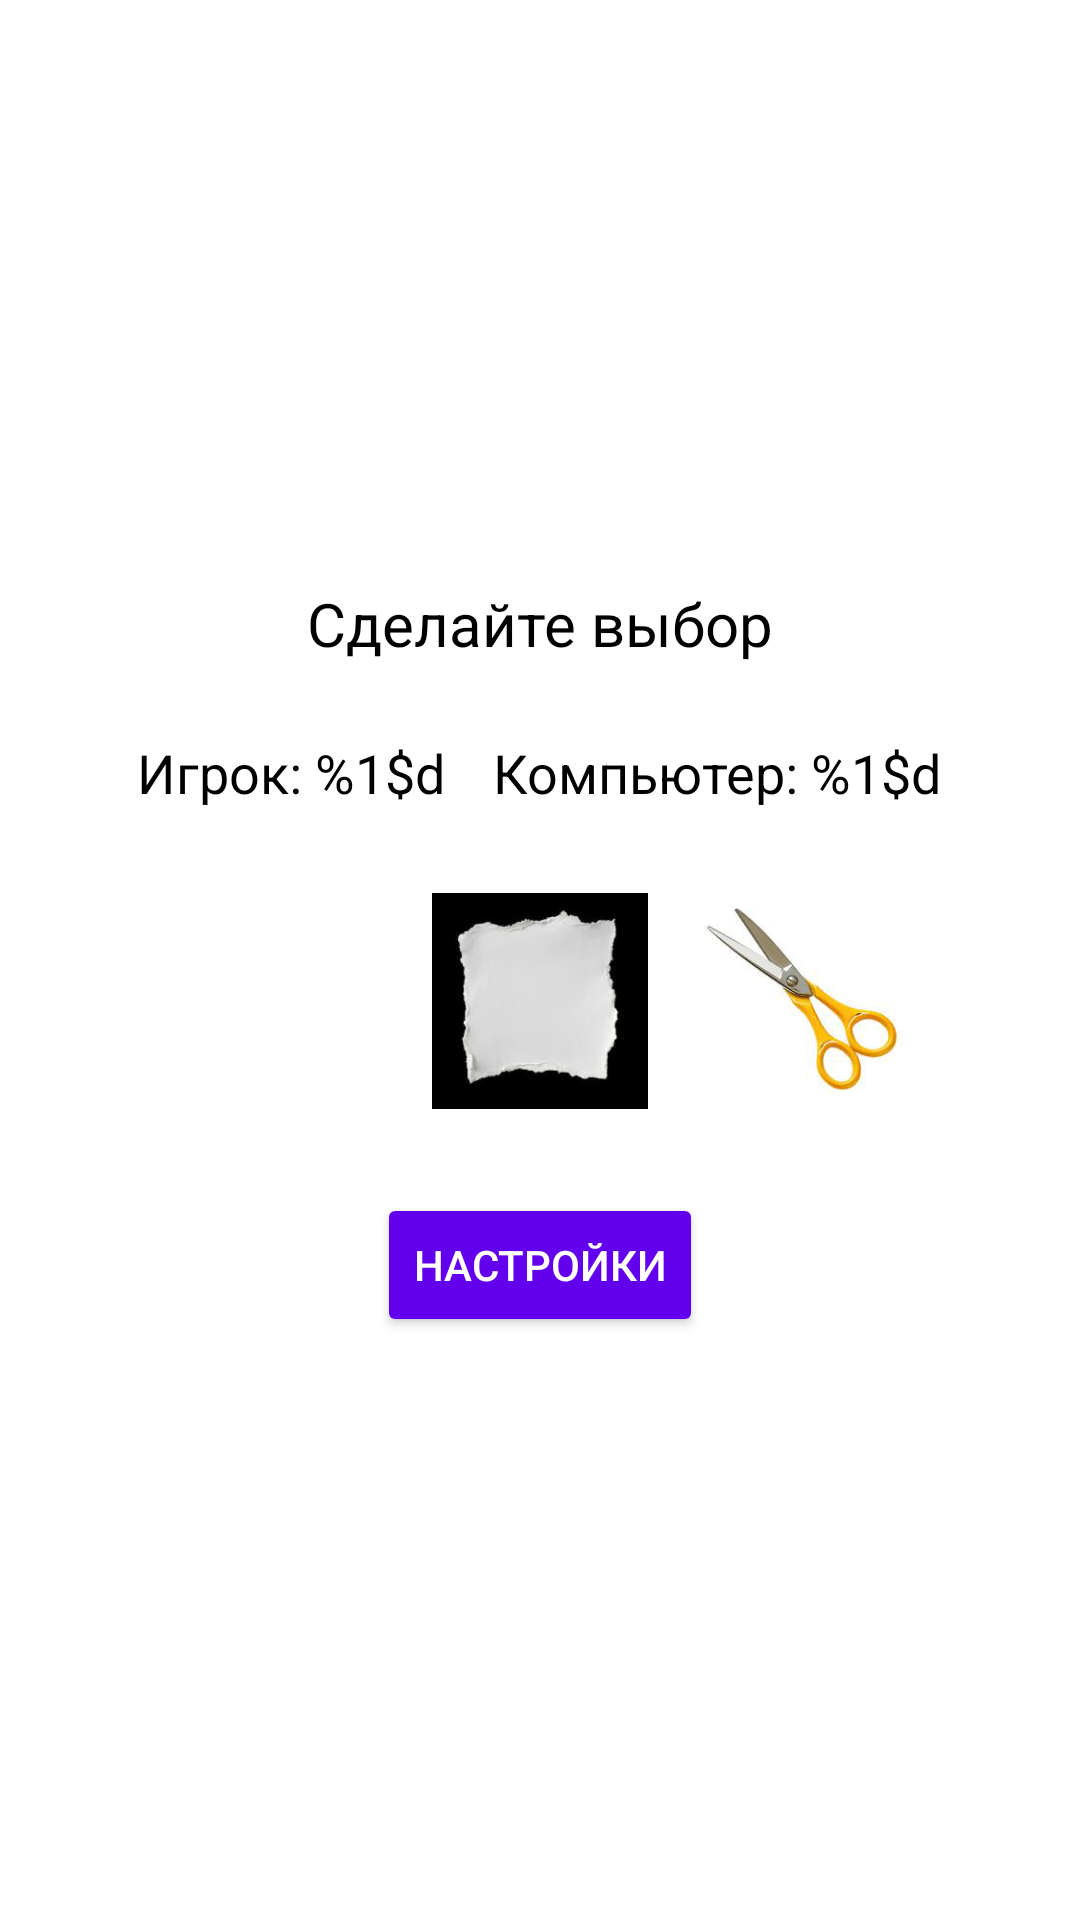

Named icons in this screenshot (1080×1920) and their bounding boxes, (x1, y1, x2, y2):
Бумага: (432, 893, 648, 1109)
Ножницы: (706, 908, 898, 1093)
